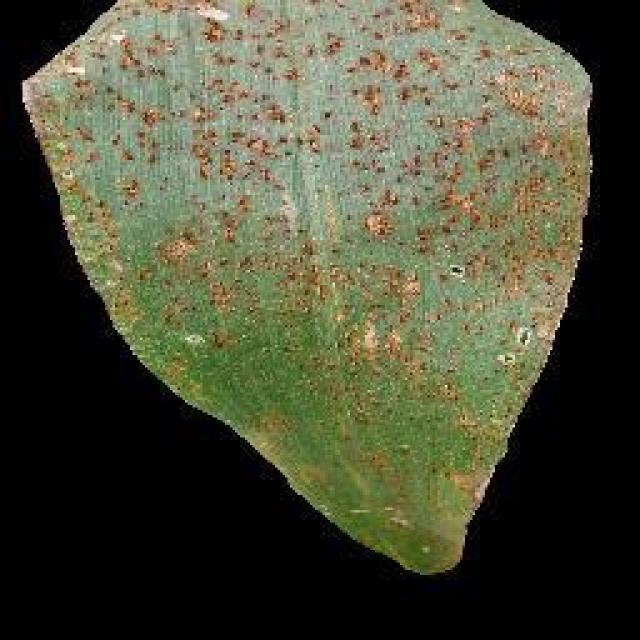Corn Common Rust: (67, 0, 508, 437)
